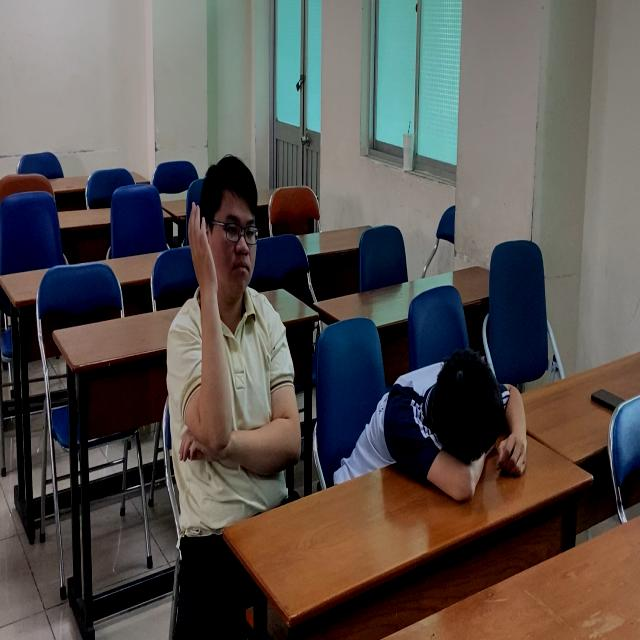raise_hand: (165, 150, 307, 494)
sleep: (343, 338, 535, 509)
